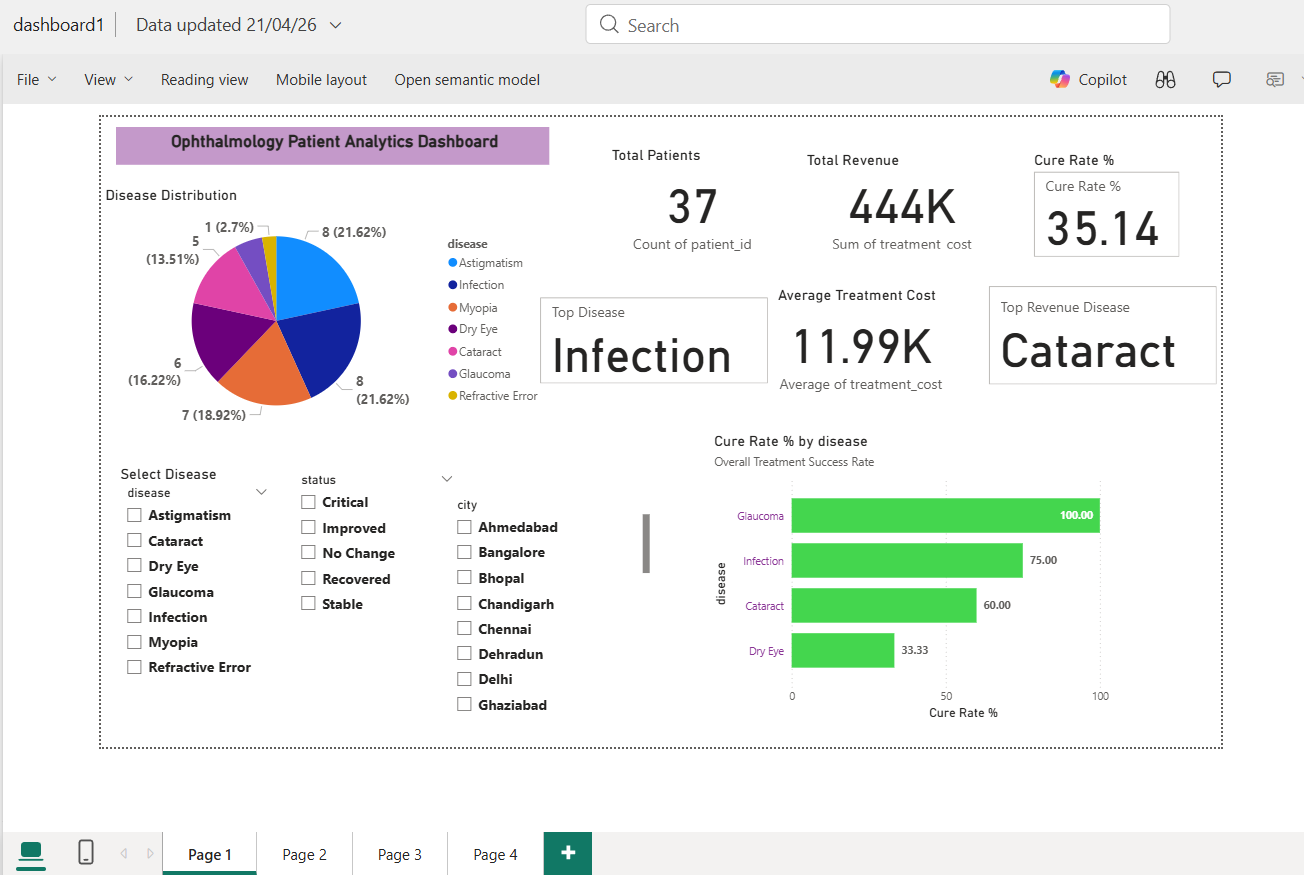

What the dashboard file says about the page in this screenshot:
{"tool":"powerbi","page":{"name":"Page 1","canvas":[1280,720],"ordinal":0},"visuals":[{"type":"pieChart","title":"Disease Distribution","fields":{"Category":["patients.disease"],"Y":["CountNonNull(patients.patient_id)"]},"box":[0,77.5,555,256.2],"z":0},{"type":"card","title":"Total Patients","fields":{"Values":["CountNonNull(patients.patient_id)"]},"box":[578.3,33.3,195,126.7],"z":1000},{"type":"card","title":"Average Treatment Cost","fields":{"Values":["Avg(patients.treatment_cost)"]},"box":[768.3,193.3,200,126.7],"z":2000},{"type":"card","title":"Total Revenue","fields":{"Values":["Sum(patients.treatment_cost)"]},"box":[801.7,38.3,228.3,116.7],"z":3000},{"type":"slicer","title":"Select Disease","fields":{"Values":["patients.disease"]},"box":[16.7,396.7,185,265],"z":4000},{"type":"slicer","fields":{"Values":["patients.status"]},"box":[215,401.7,198.3,255],"z":5000},{"type":"slicer","fields":{"Values":["patients.city"]},"box":[394,430,238,254],"z":6000},{"type":"cardVisual","title":"Cure Rate %","fields":{"Data":["patients.Cure Rate %"]},"box":[1061.7,38.3,176.7,126.7],"z":7000},{"type":"clusteredBarChart","fields":{"Y":["patients.Cure Rate %","select"],"Category":["patients.disease"]},"box":[696,360,502,334],"z":8000},{"type":"cardVisual","fields":{"Data":["patients.Top Disease"]},"box":[534,180,234,140],"z":9000},{"type":"cardVisual","fields":{"Data":["patients.Top Revenue Disease"]},"box":[1010,188,270,122],"z":10000},{"type":"textbox","box":[16.7,11.7,495,43.3],"z":11000}]}

Visuals, with their boxes on the page's 1280x720 design canvas (x1, y1, x2, y2). These are canvas units, not pixel positions in the 1304x875 screenshot, which may show the page scaled, cropped or inside an application window:
"Disease Distribution" pieChart: left=0, top=78, right=555, bottom=334
"Total Patients" card: left=578, top=33, right=773, bottom=160
"Average Treatment Cost" card: left=768, top=193, right=968, bottom=320
"Total Revenue" card: left=802, top=38, right=1030, bottom=155
"Select Disease" slicer: left=17, top=397, right=202, bottom=662
slicer - patients.status: left=215, top=402, right=413, bottom=657
slicer - patients.city: left=394, top=430, right=632, bottom=684
"Cure Rate %" cardVisual: left=1062, top=38, right=1238, bottom=165
clusteredBarChart - patients.Cure Rate % x select: left=696, top=360, right=1198, bottom=694
cardVisual - patients.Top Disease: left=534, top=180, right=768, bottom=320
cardVisual - patients.Top Revenue Disease: left=1010, top=188, right=1280, bottom=310
textbox: left=17, top=12, right=512, bottom=55
